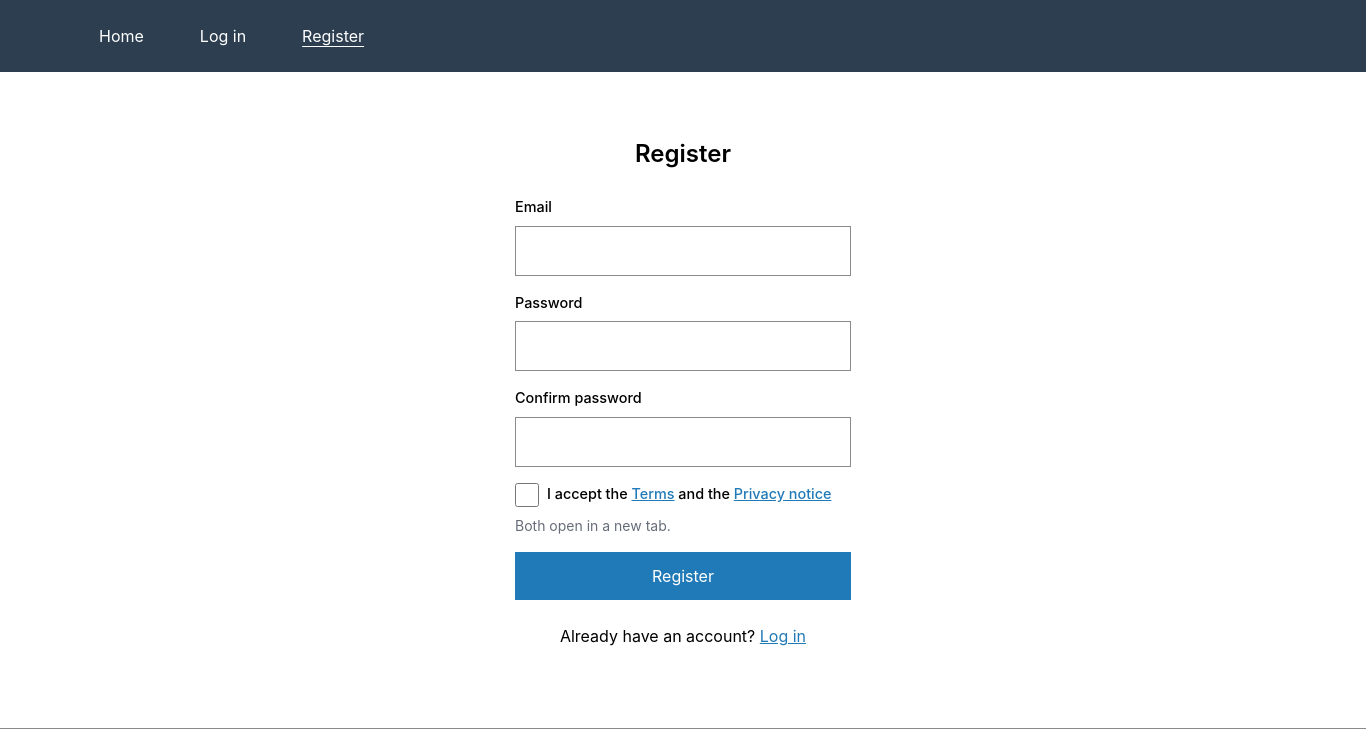
Test: Authentication Flow Integration Tests › Registration Flow › registers, with the terms accepted, and moves on to the login page, which confirms it
Type "test@example.com" into the field labelled "Email".
click(683, 251); type("test@example.com")  # box left=515, top=226, right=851, bottom=276
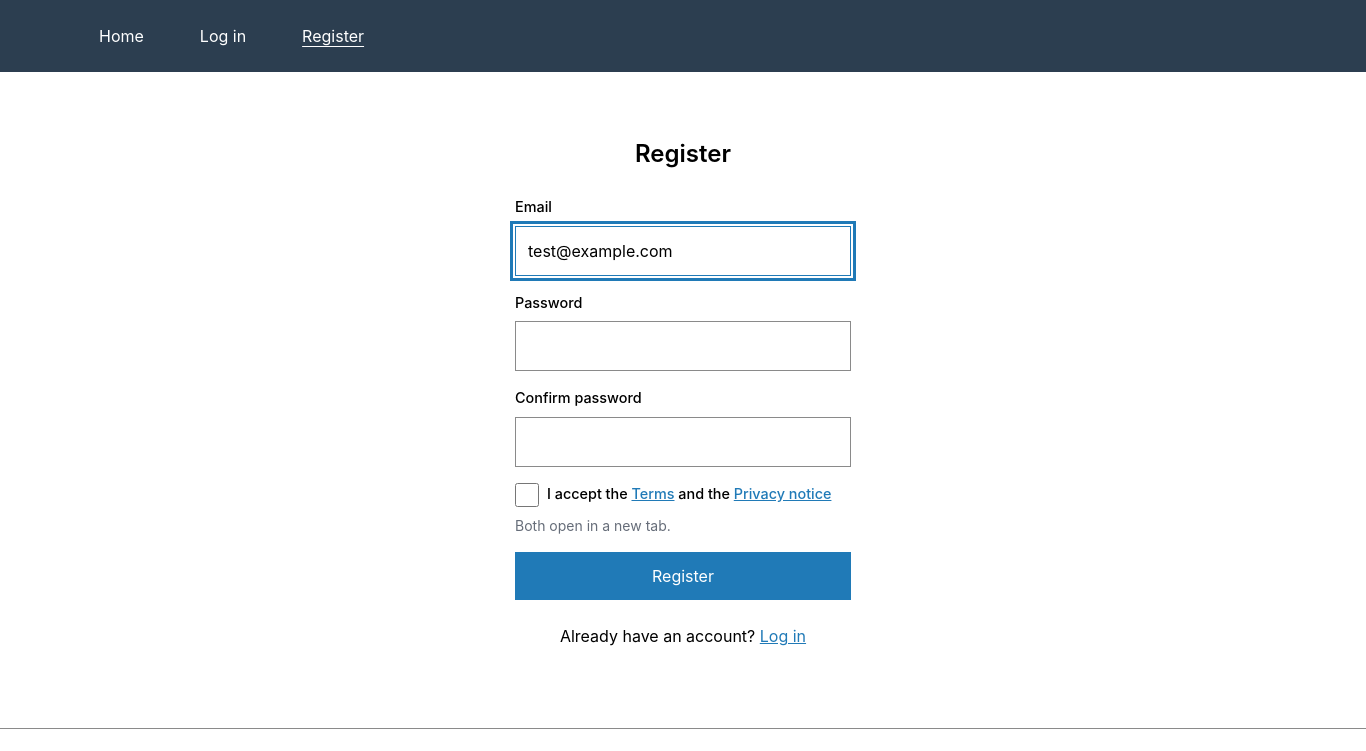
Type "Password123" into the password field labelled "Password".
click(683, 346); type("Password123")  # box left=515, top=321, right=851, bottom=371
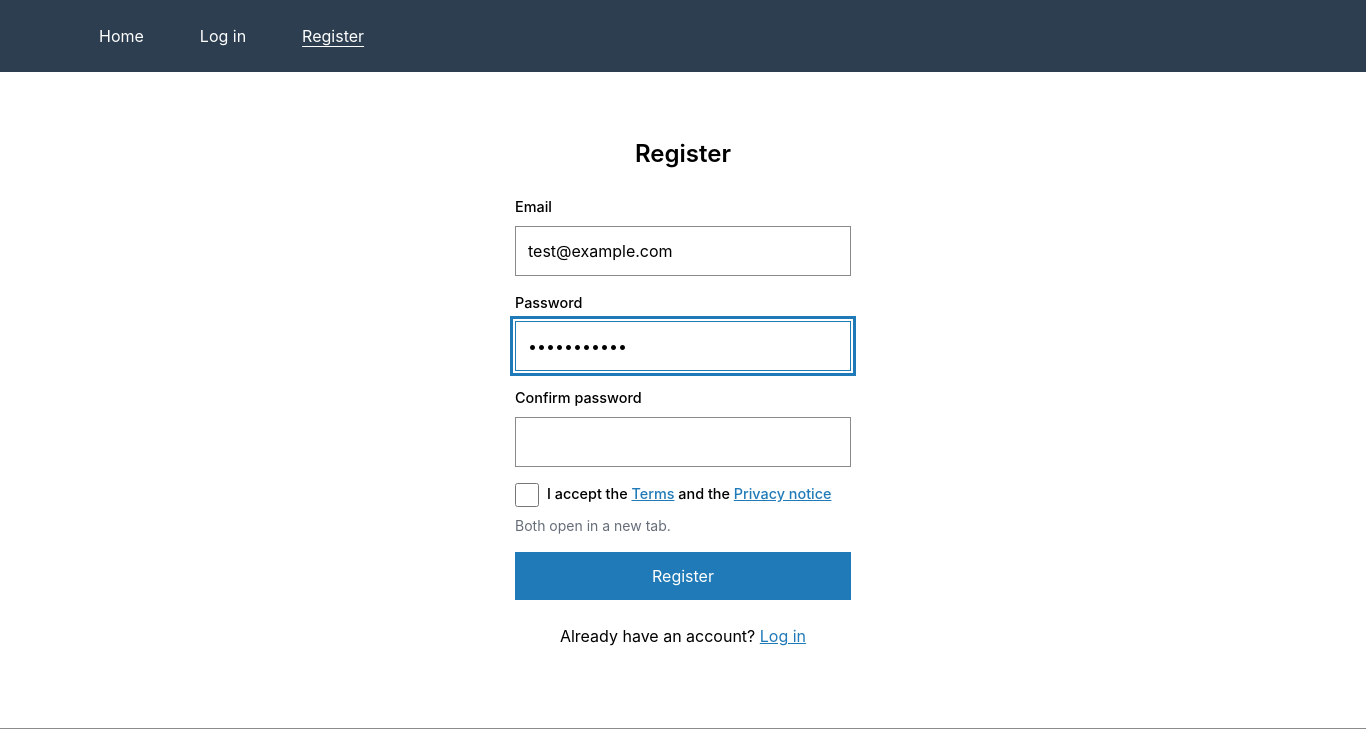
Type "Password123" into the password field labelled "Confirm password".
click(683, 442); type("Password123")  # box left=515, top=417, right=851, bottom=467
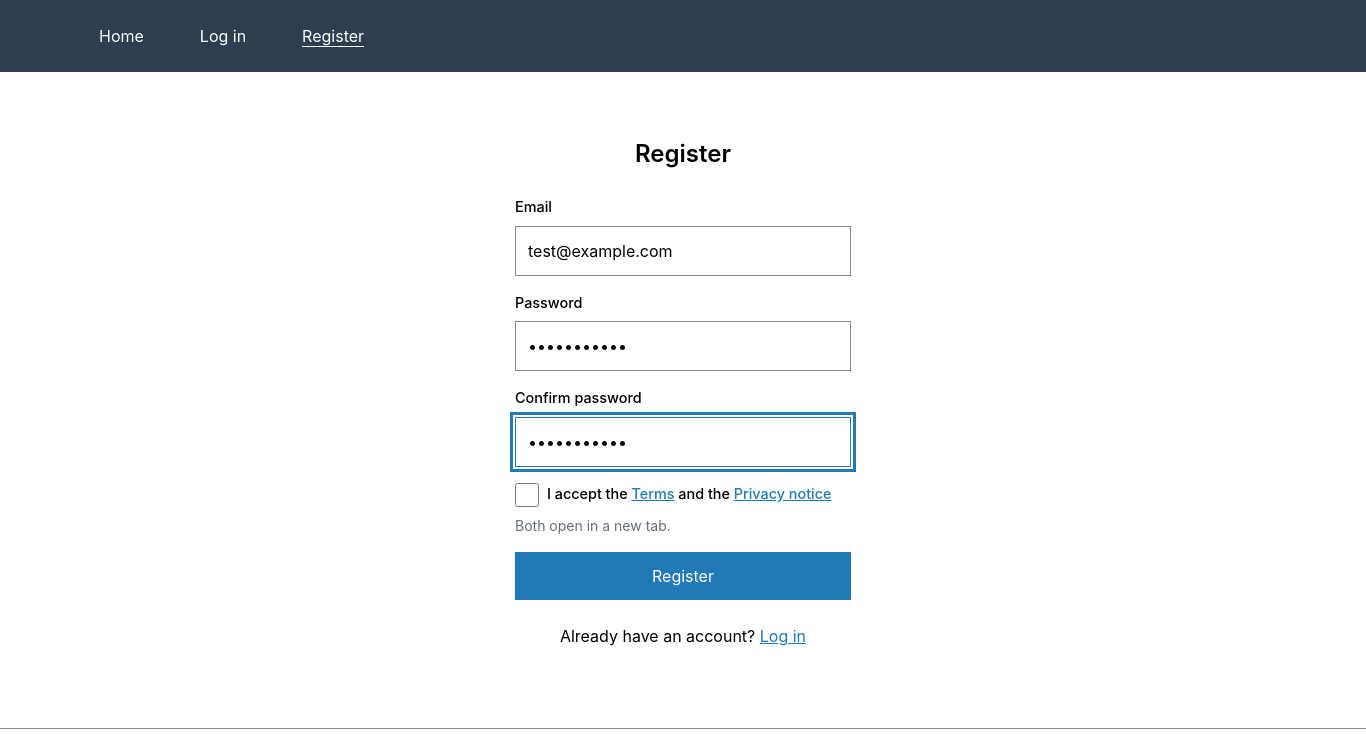
Click the checkbox labelled "I accept the Terms and the Privacy notice".
click(527, 495)  # box left=515, top=483, right=539, bottom=507
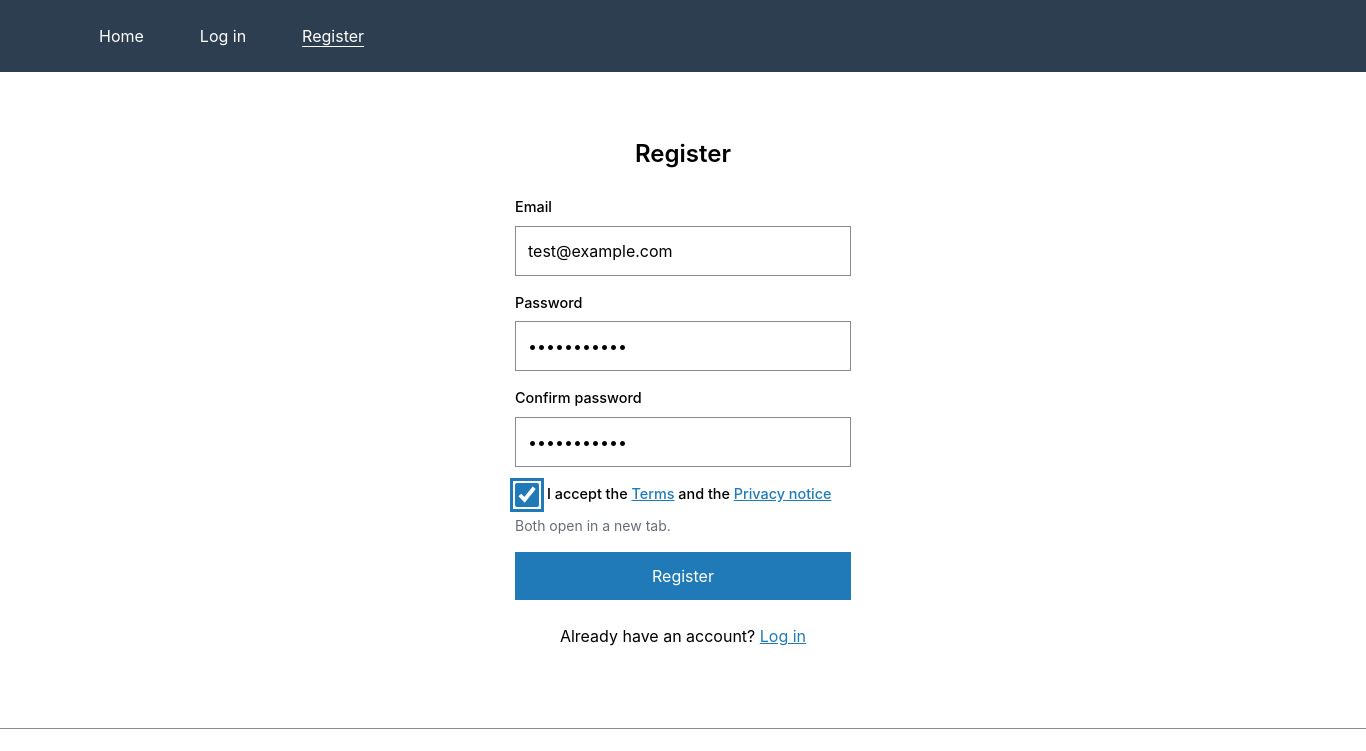
Click the button "Register".
click(683, 576)  # box left=515, top=552, right=851, bottom=600
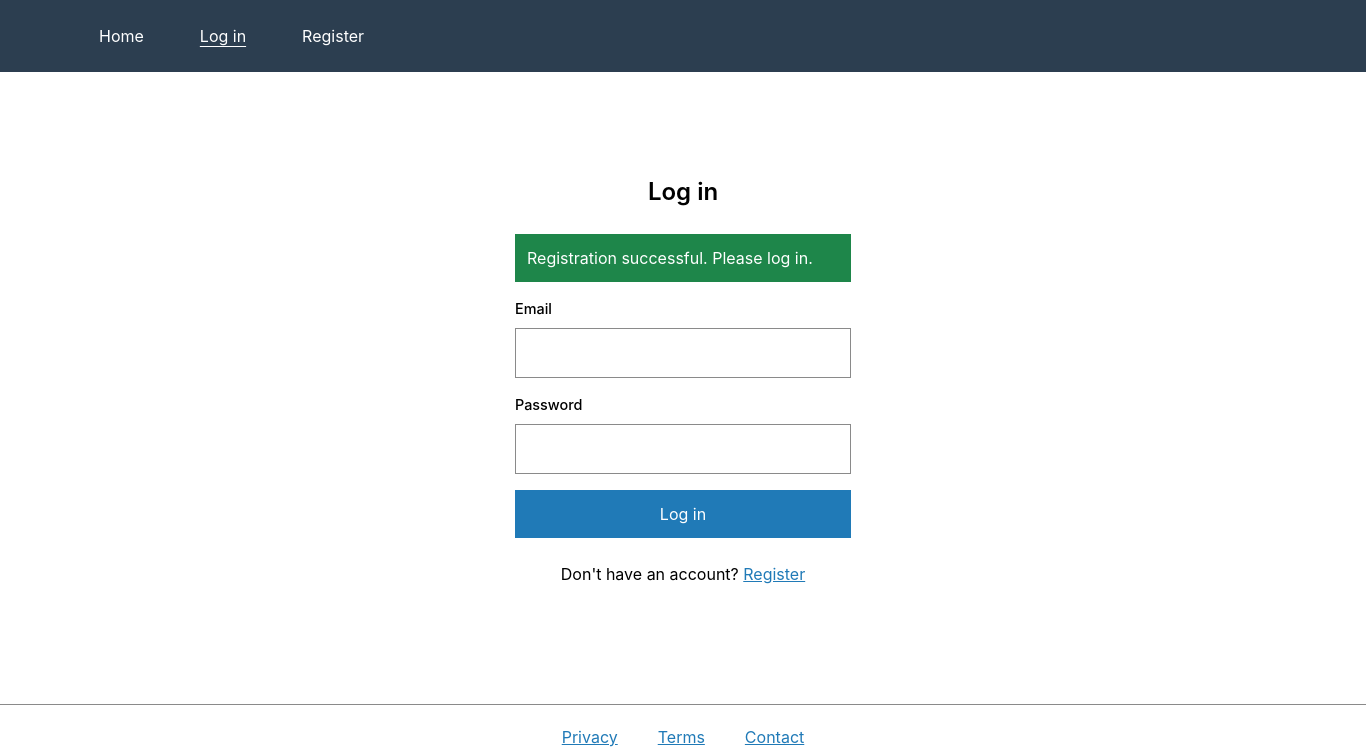
Expected: the heading "Log in" is shown, left=648, top=177, right=718, bottom=206
